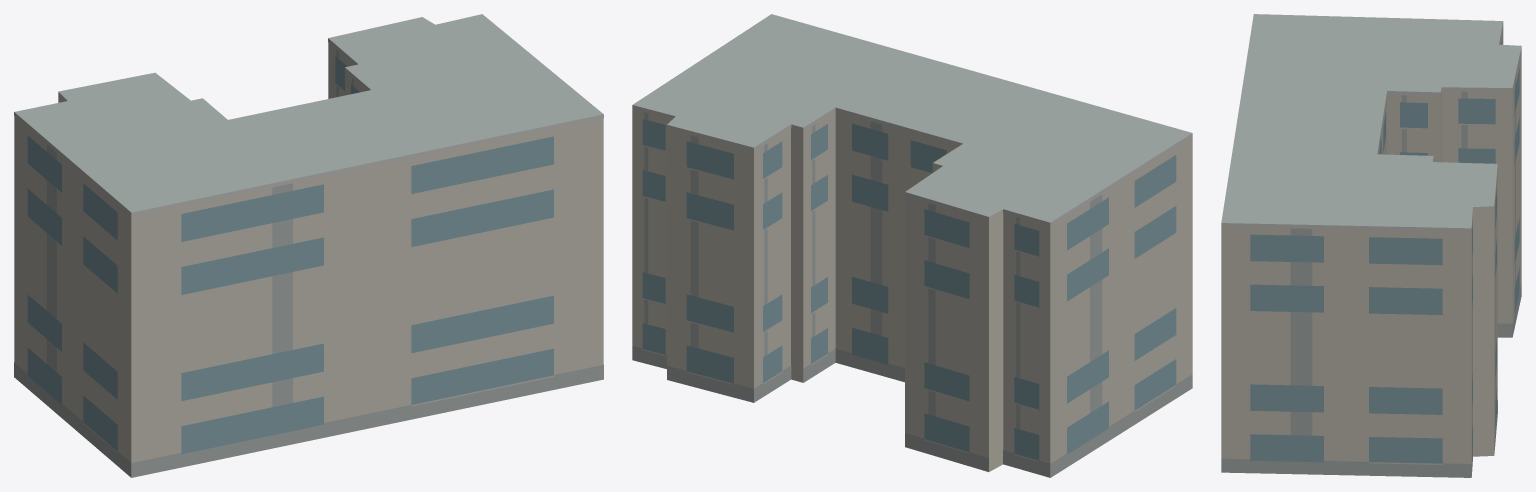
Rendered from survey-upis-32825252.glb.
3 views of the same model, side by side, from view 1: azimuth 30°, elevation 25°; view 2: azimuth 150°, elevation 25°; view 3: azimuth 270°, elevation 25° (orthographic). The views are drawn at different scales.
Visible parts, largest first — view 1: survey-upis-32825252.tmp; view 2: survey-upis-32825252.tmp; view 3: survey-upis-32825252.tmp.
Boxes of the visible parts, x1,y1,x2,y2 form: survey-upis-32825252.tmp: (14, 14, 603, 477); survey-upis-32825252.tmp: (632, 14, 1192, 477); survey-upis-32825252.tmp: (1221, 14, 1521, 477).
Bounding box in the file's own units: 28.09 × 15.25 × 16.65.
